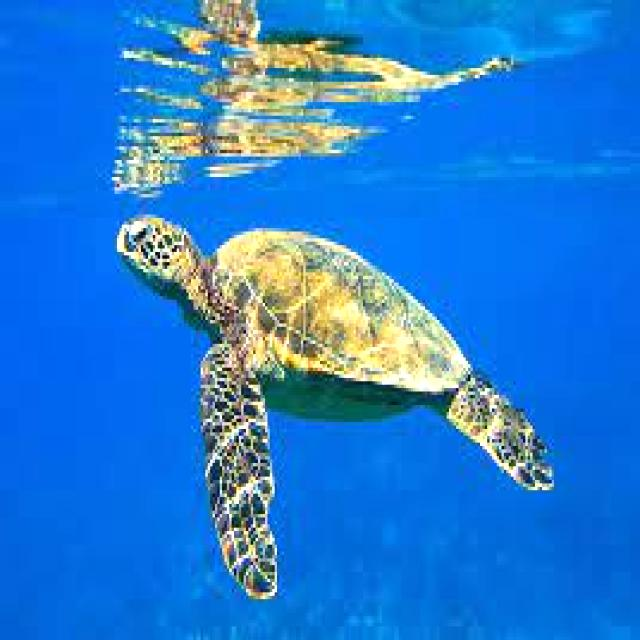Sea turtle: (100, 183, 579, 590)
